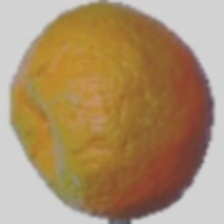tangerine: (0, 35, 198, 172)
